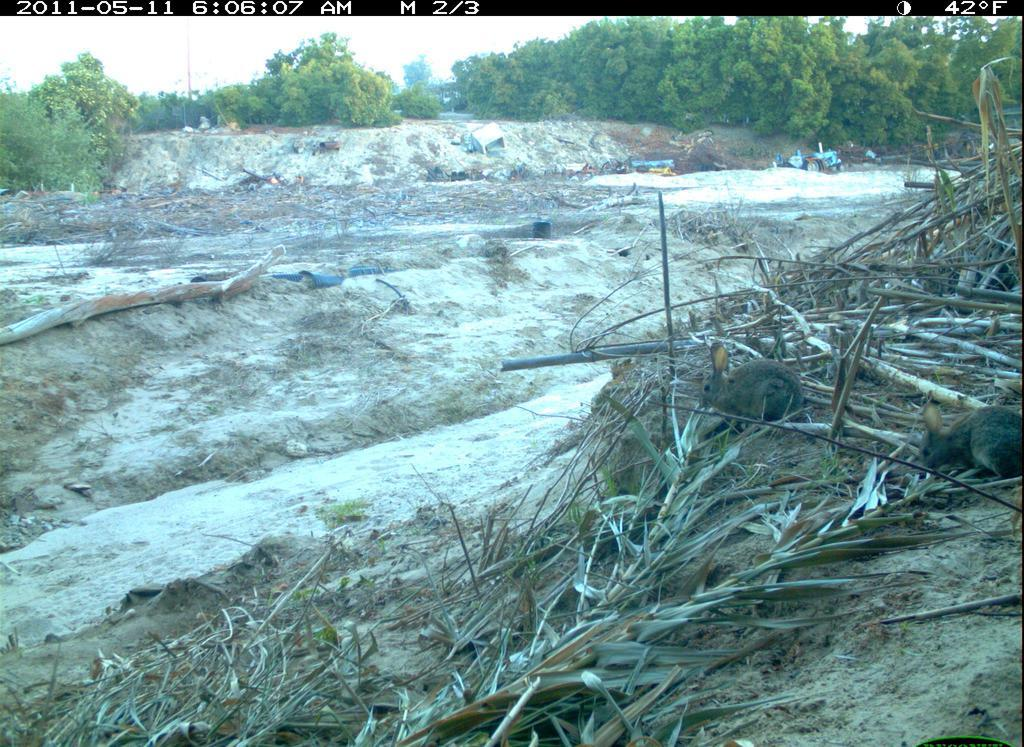rabbit: (683, 338, 809, 438), (908, 392, 1022, 500)
